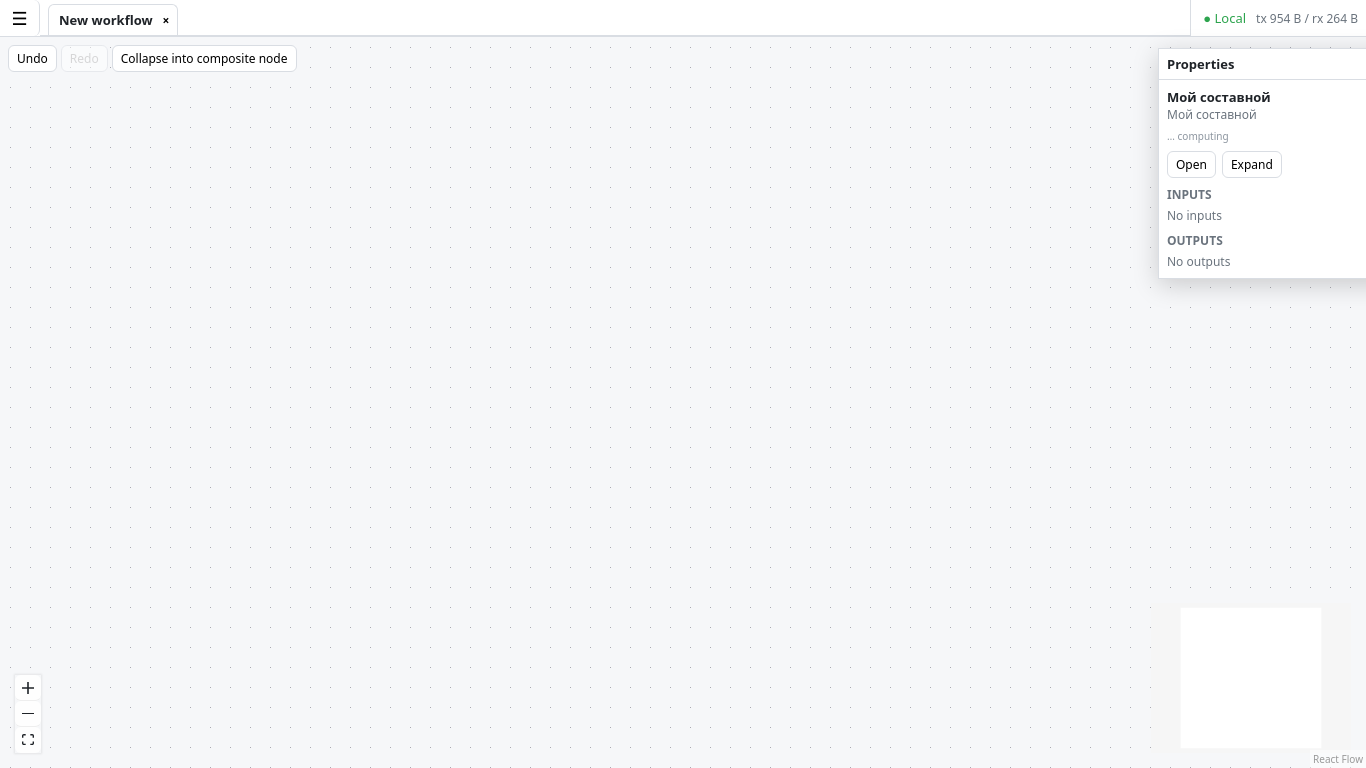
окно свойств (US3) › #8: у экземпляра составного нода — «Открыть» и «Развернуть»; у нода «Вход» — редактор портов
Click the button with aria-label "Expand “Мой составной”" at {"x": 1252, "y": 164}, box [1222, 151, 1282, 178]
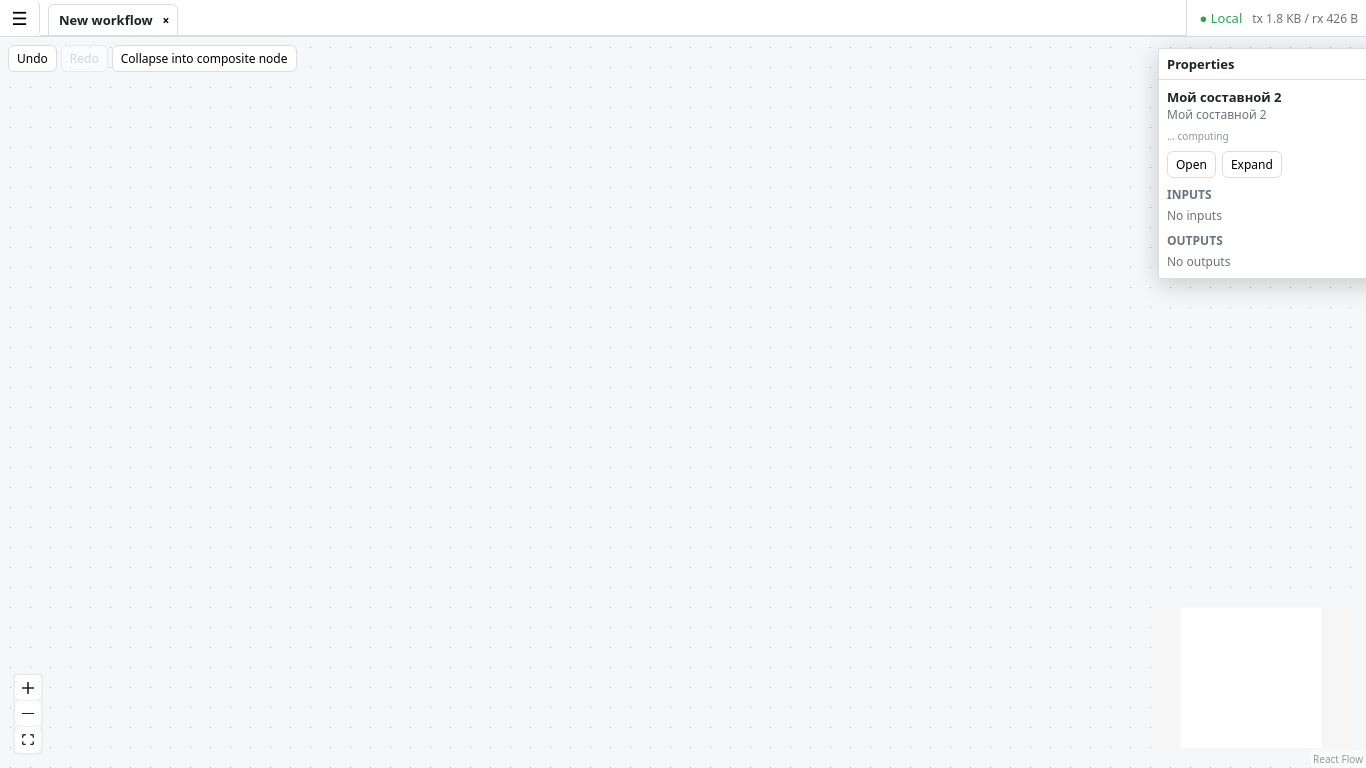
Click the button with aria-label "Open composite node “Мой составной 2”" at {"x": 1191, "y": 164}, box [1167, 151, 1216, 178]
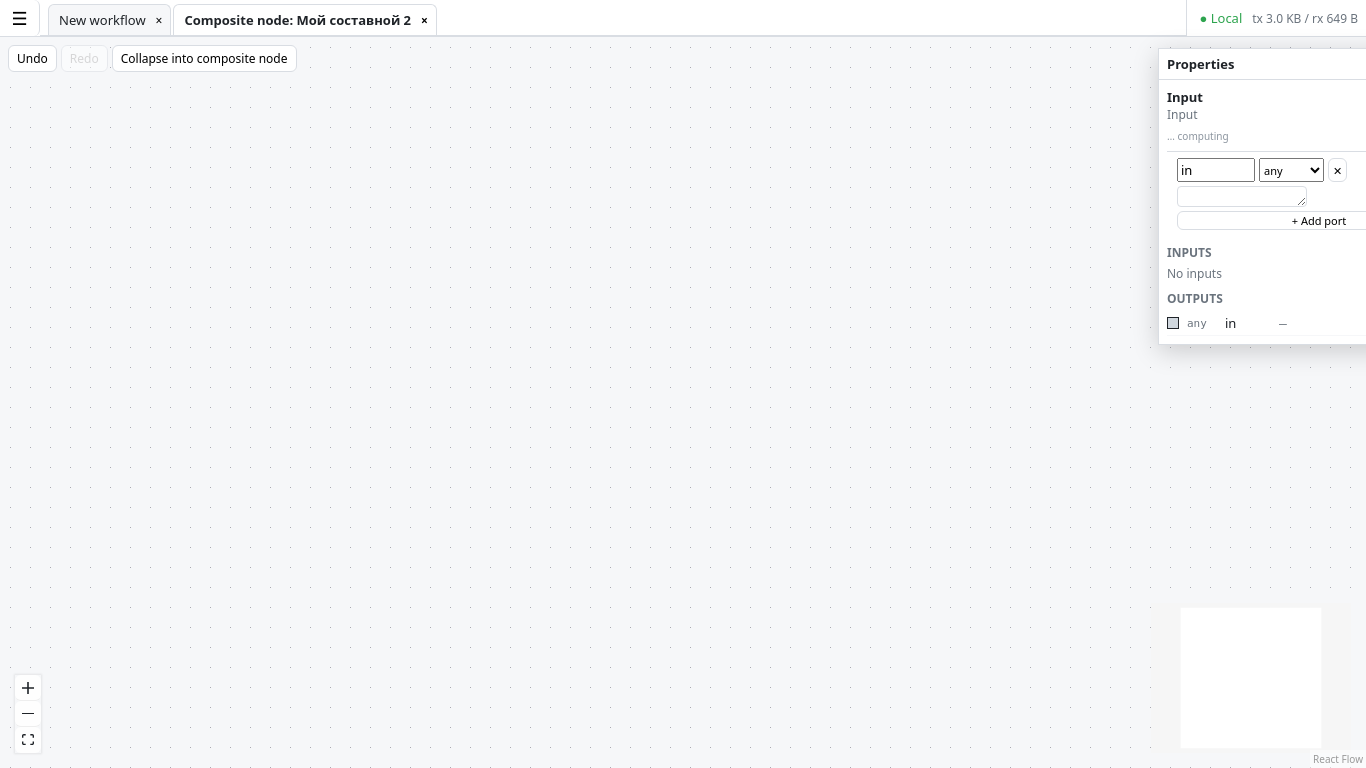
Expected: the element "Inputs" shows "No inputs", [1167, 265, 1222, 282]
Now the field named "Port name" is shown, box [1177, 158, 1255, 182]
